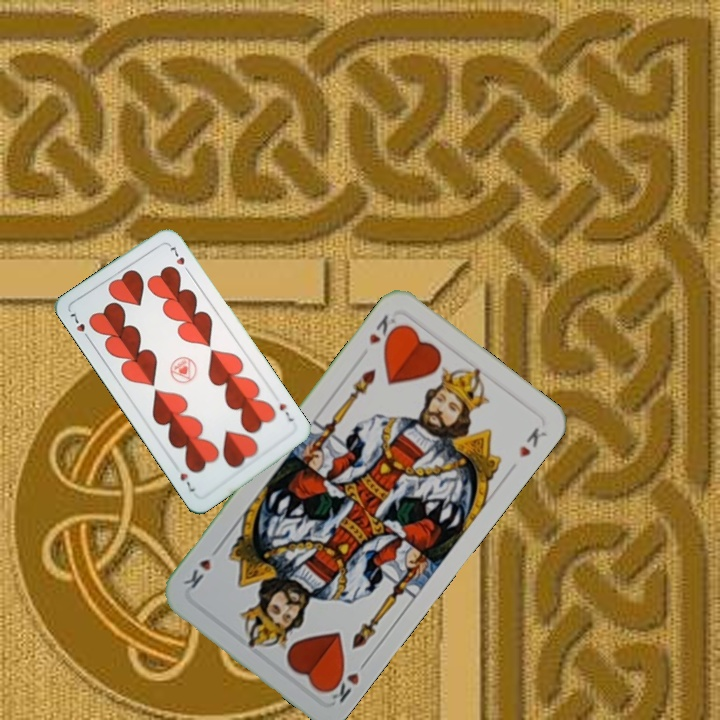H7: (66, 308, 93, 343), (275, 399, 296, 424)
HK: (322, 655, 371, 706), (365, 310, 403, 350)
